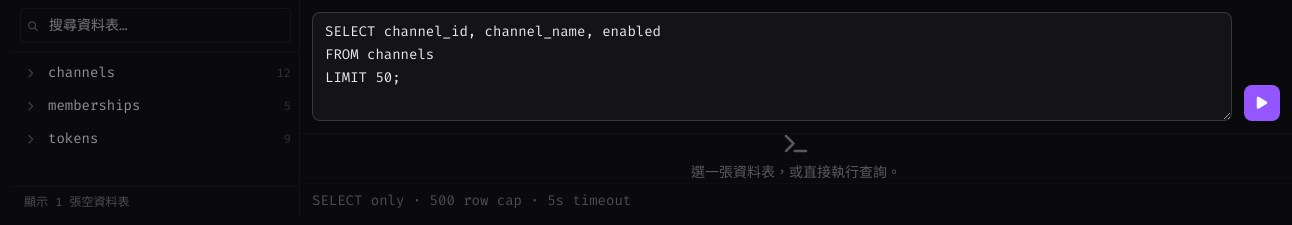
DbConsole › a search term still surfaces empty tables
Expected: the text "channels" is shown, [48, 63, 115, 82]
Type "game_queue" into the field with placeholder "搜尋資料表…".
click(156, 26); type("game_queue")  # box [20, 8, 291, 43]
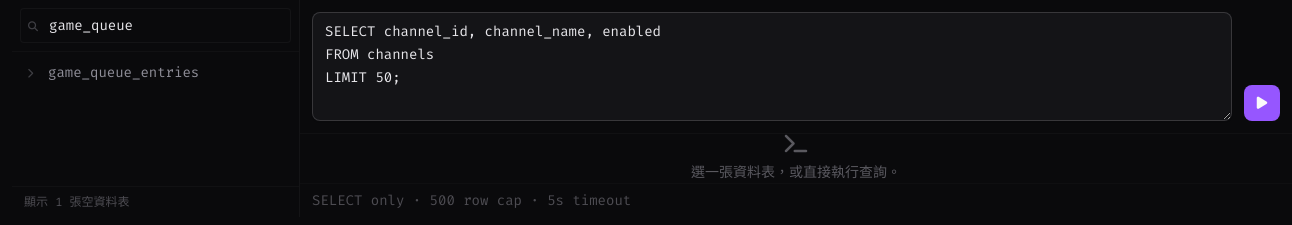
Now the text "game_queue_entries" is shown, box [48, 63, 199, 82]
